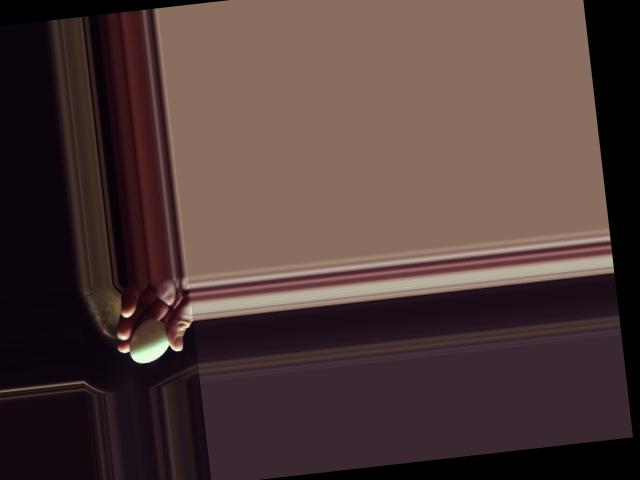egg: (127, 317, 172, 364)
